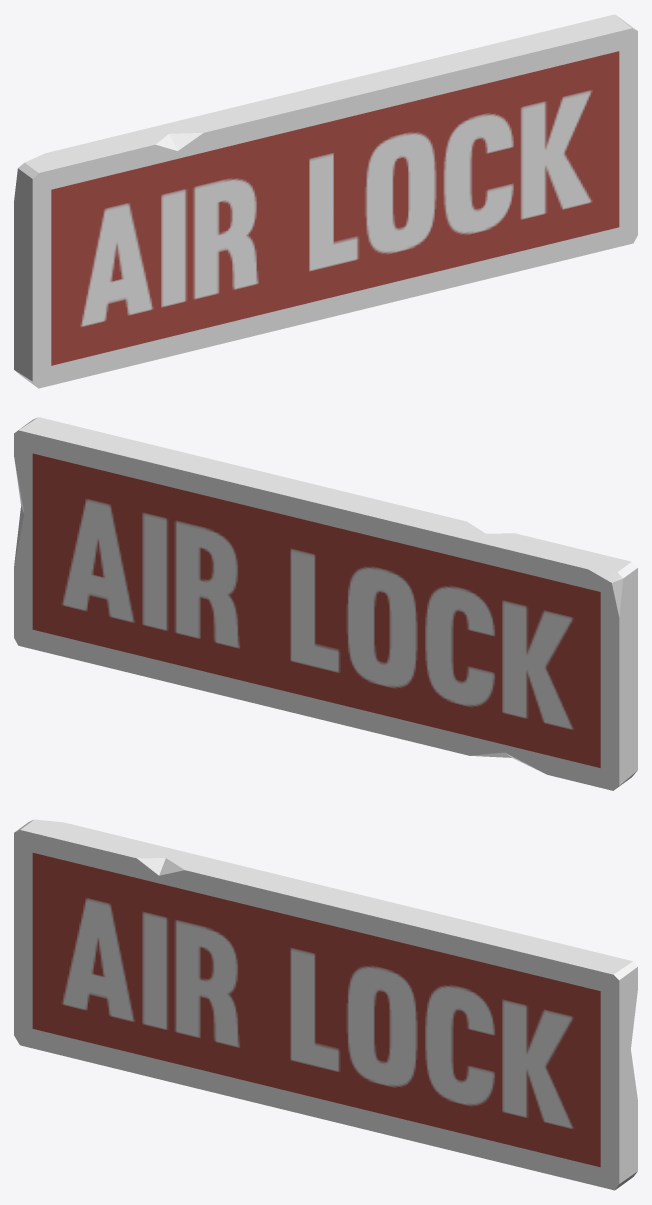
The model's file is SM_Sign_AirLock_01.fbx.
3 views of the same model, one above another, from view 1: azimuth 30°, elevation 25°; view 2: azimuth 150°, elevation 25°; view 3: azimuth 330°, elevation 25° (orthographic).
Visible parts, largest first — view 1: SM_Sign_AirLock_01; view 2: SM_Sign_AirLock_01; view 3: SM_Sign_AirLock_01.
Part boxes in pixels (x1=…): SM_Sign_AirLock_01: x1=14, y1=14, x2=637, y2=388; SM_Sign_AirLock_01: x1=14, y1=417, x2=637, y2=790; SM_Sign_AirLock_01: x1=14, y1=819, x2=637, y2=1190.
Bounding box in the file's own units: 270 × 91.8 × 14.42.
1 material, 1 textured.
